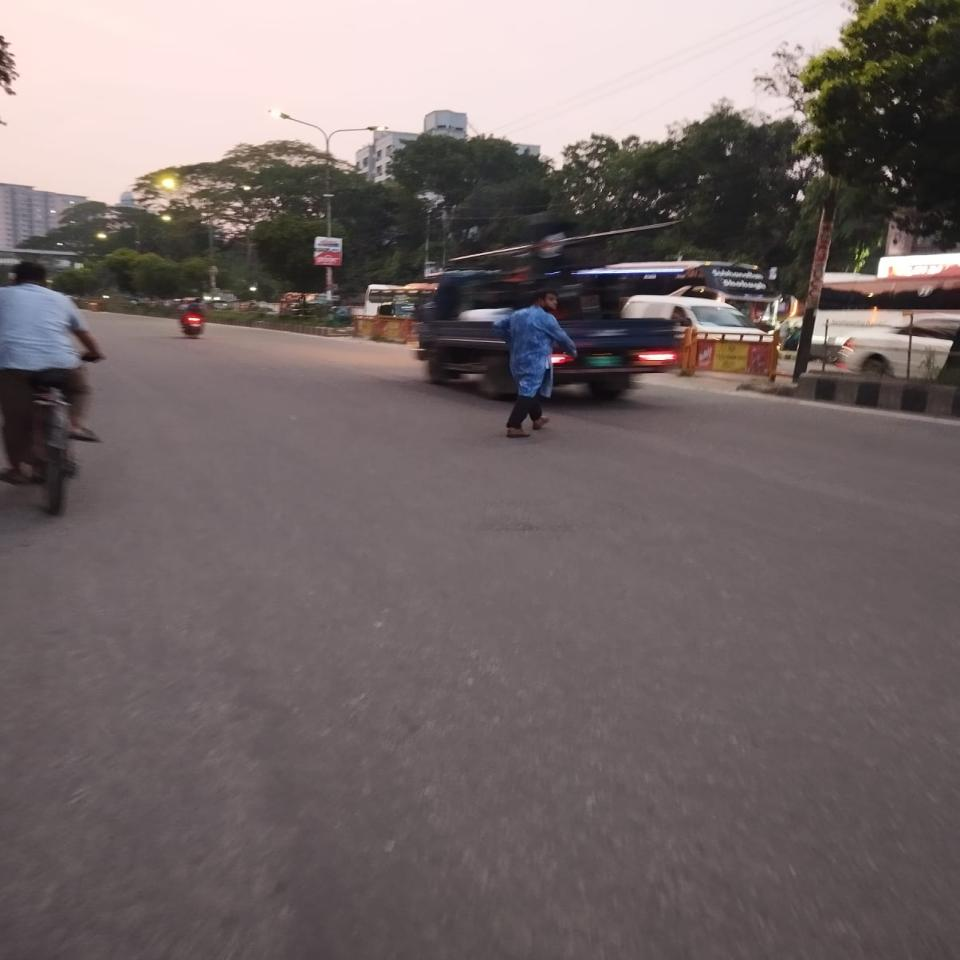person: (497, 289, 579, 440)
